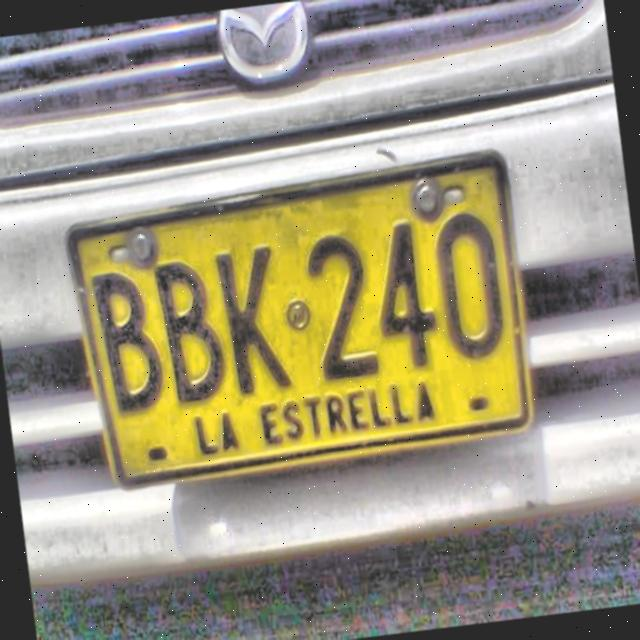0: (427, 207, 511, 365)
2: (301, 227, 385, 389)
4: (365, 214, 446, 374)
B: (149, 248, 233, 418), (84, 265, 172, 425)
K: (212, 241, 296, 399)
